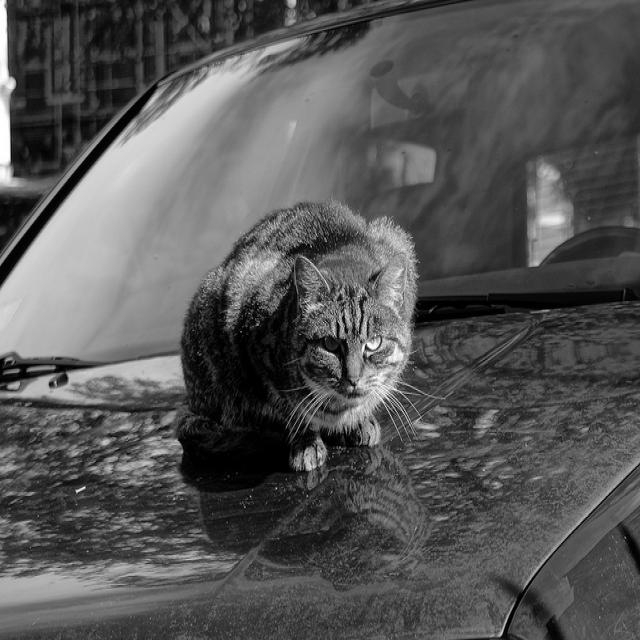Vehicle: (1, 0, 638, 632)
